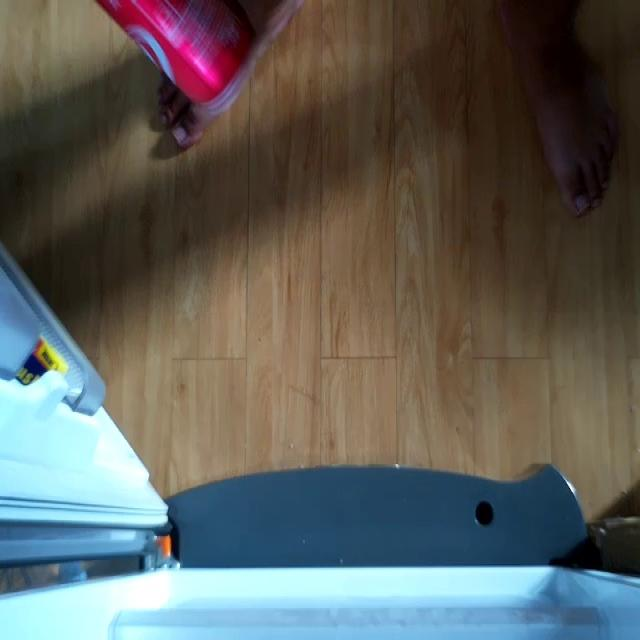coke: (78, 0, 255, 106)
